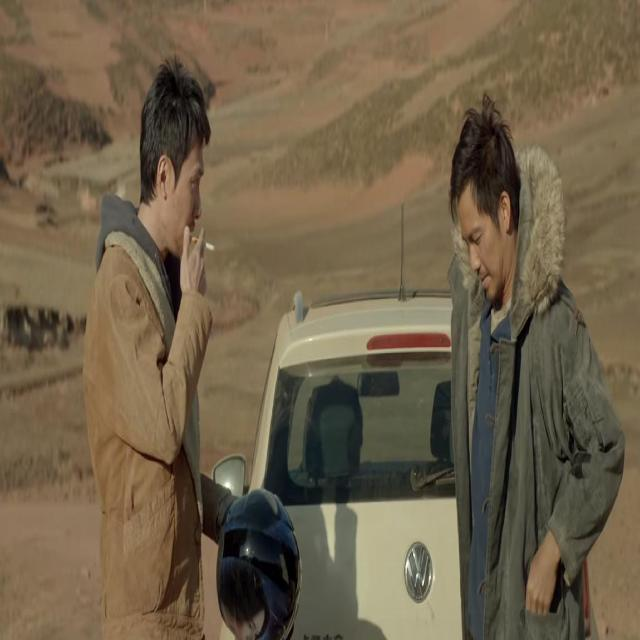smoke: (201, 232, 218, 268)
